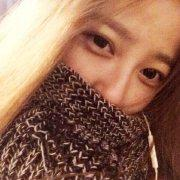WRONG: (57, 14, 164, 121)
